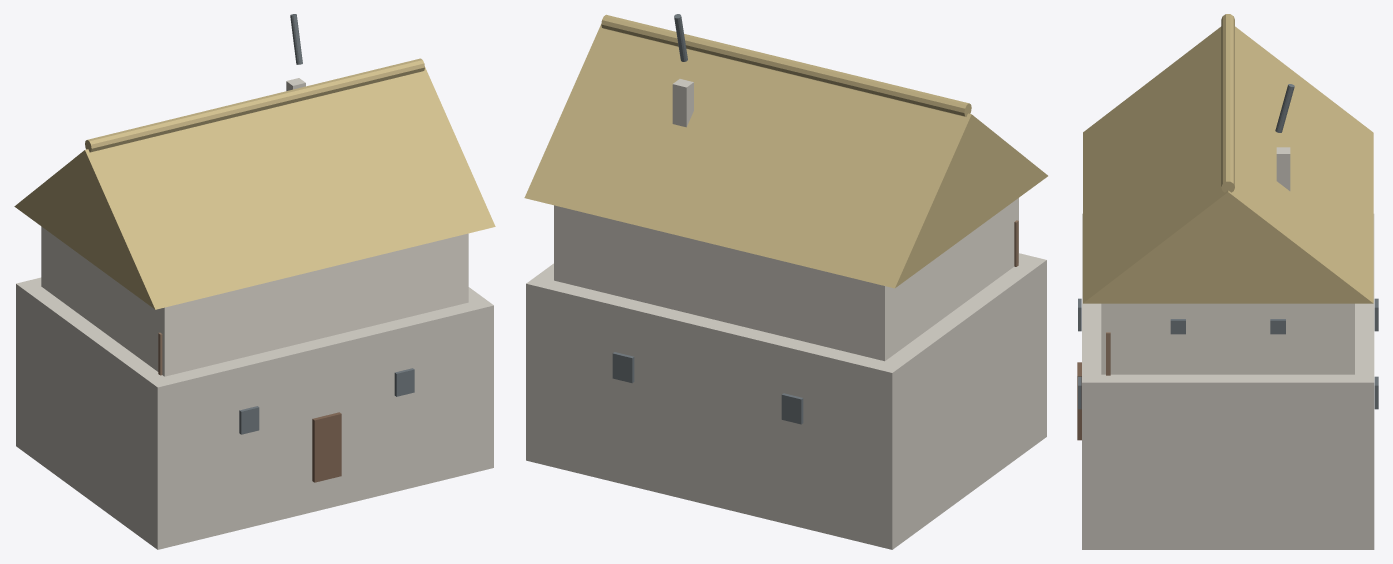
The model's file is french_house_v3.glb.
3 renders of one model, left to right at view 1: azimuth 30°, elevation 25°; view 2: azimuth 150°, elevation 25°; view 3: azimuth 270°, elevation 25°, orthographic. The views are drawn at different scales.
Visible parts, largest first — view 1: BaseMass, Roof, UpperMass, RoofRidgeCap, Cube.002; view 2: BaseMass, Roof, UpperMass, RoofRidgeCap, Chimney, Cube.006, Cube.005; view 3: Roof, BaseMass, UpperMass, RoofRidgeCap, Chimney, ChimneyFlue.
Part boxes in pixels (bbox=[...]): BaseMass: bbox=[16, 277, 493, 549]; Roof: bbox=[14, 67, 495, 309]; UpperMass: bbox=[41, 226, 468, 376]; RoofRidgeCap: bbox=[85, 58, 424, 152]; Cube.002: bbox=[312, 412, 341, 482]; BaseMass: bbox=[526, 253, 1046, 549]; Roof: bbox=[524, 24, 1047, 288]; UpperMass: bbox=[554, 198, 1018, 361]; RoofRidgeCap: bbox=[601, 14, 971, 116]; Chimney: bbox=[672, 79, 693, 127]; Cube.006: bbox=[612, 352, 634, 383]; Cube.005: bbox=[781, 393, 803, 424]; Roof: bbox=[1083, 26, 1373, 303]; BaseMass: bbox=[1082, 213, 1374, 549]; UpperMass: bbox=[1101, 303, 1354, 374]; RoofRidgeCap: bbox=[1221, 14, 1234, 192]; Chimney: bbox=[1276, 147, 1290, 190]; ChimneyFlue: bbox=[1275, 84, 1294, 132].
Size of the model in its own units: 5.26 by 5.96 by 3.91.
